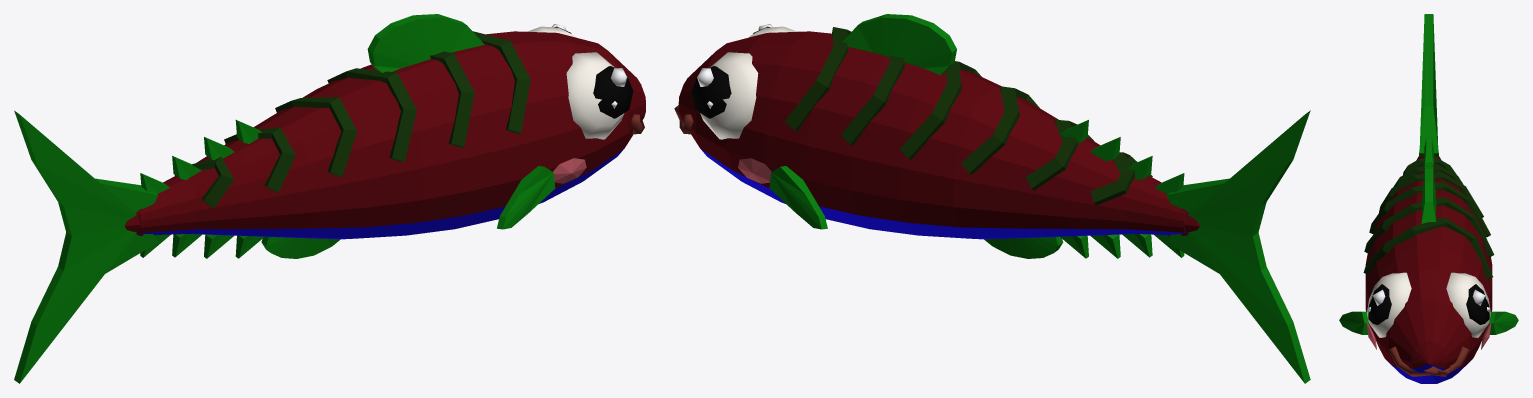
Rendered from fish-torpedo.glb.
3 views of the same model, side by side, from view 1: azimuth 30°, elevation 25°; view 2: azimuth 150°, elevation 25°; view 3: azimuth 270°, elevation 25° (orthographic). The views are drawn at different scales.
Visible parts, largest first — view 1: body, tail; view 2: body, tail; view 3: body, tail.
Boxes of the visible parts, bbox=[...] form: body: bbox=[138, 14, 645, 258]; tail: bbox=[14, 110, 158, 383]; body: bbox=[674, 14, 1185, 258]; tail: bbox=[1166, 110, 1310, 383]; body: bbox=[1339, 134, 1518, 383]; tail: bbox=[1419, 14, 1438, 157].
Size of the model in its own units: 0.9799 by 0.4 by 0.3073.
